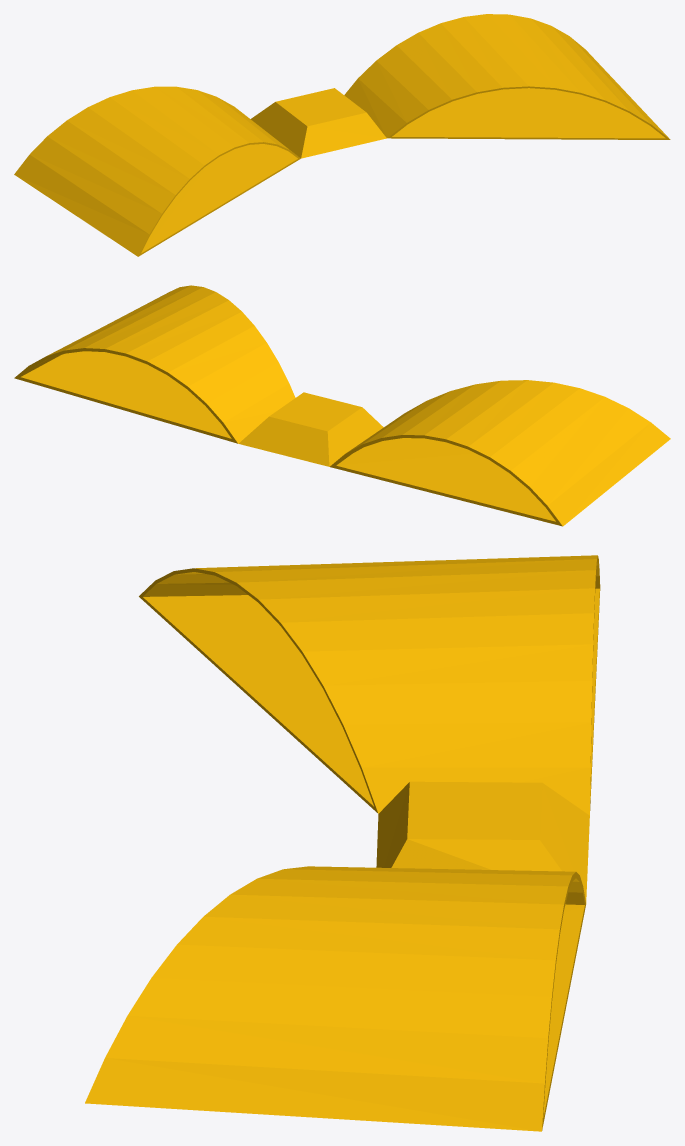
File: Prop_Christmas_Ornament_Bow_Yellow_01.FBX
The picture shows the model from 3 angles, top to bottom: view 1: azimuth 30°, elevation 25°; view 2: azimuth 150°, elevation 25°; view 3: azimuth 270°, elevation 25°; orthographic projection. The views are drawn at different scales.
Parts seen in each view (by area): view 1: Prop_Christmas_Ornament_Bow_Yellow_01; view 2: Prop_Christmas_Ornament_Bow_Yellow_01; view 3: Prop_Christmas_Ornament_Bow_Yellow_01.
Part boxes in pixels (left/top/right/bottom): Prop_Christmas_Ornament_Bow_Yellow_01: left=14, top=14, right=670, bottom=256; Prop_Christmas_Ornament_Bow_Yellow_01: left=14, top=285, right=670, bottom=526; Prop_Christmas_Ornament_Bow_Yellow_01: left=85, top=555, right=600, bottom=1131.
Size of the model in its own units: 329 by 32.12 by 132.
